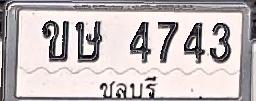3: (209, 22, 231, 63)
4: (129, 21, 151, 63), (183, 22, 205, 64)
7: (157, 21, 178, 63)
A02: (41, 19, 69, 62)
A39: (74, 20, 102, 62)
CBI: (93, 73, 161, 101)
